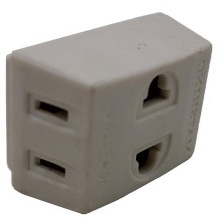three_eye_plug: (1, 7, 216, 216)
